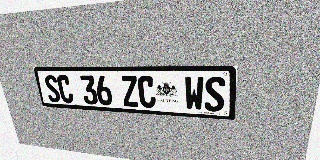3: (80, 75, 98, 105)
6: (94, 75, 113, 106)
C: (137, 76, 156, 108), (56, 75, 74, 103)
S: (204, 77, 226, 112), (43, 75, 61, 103)
W: (184, 76, 204, 111)
Z: (120, 76, 139, 107)
